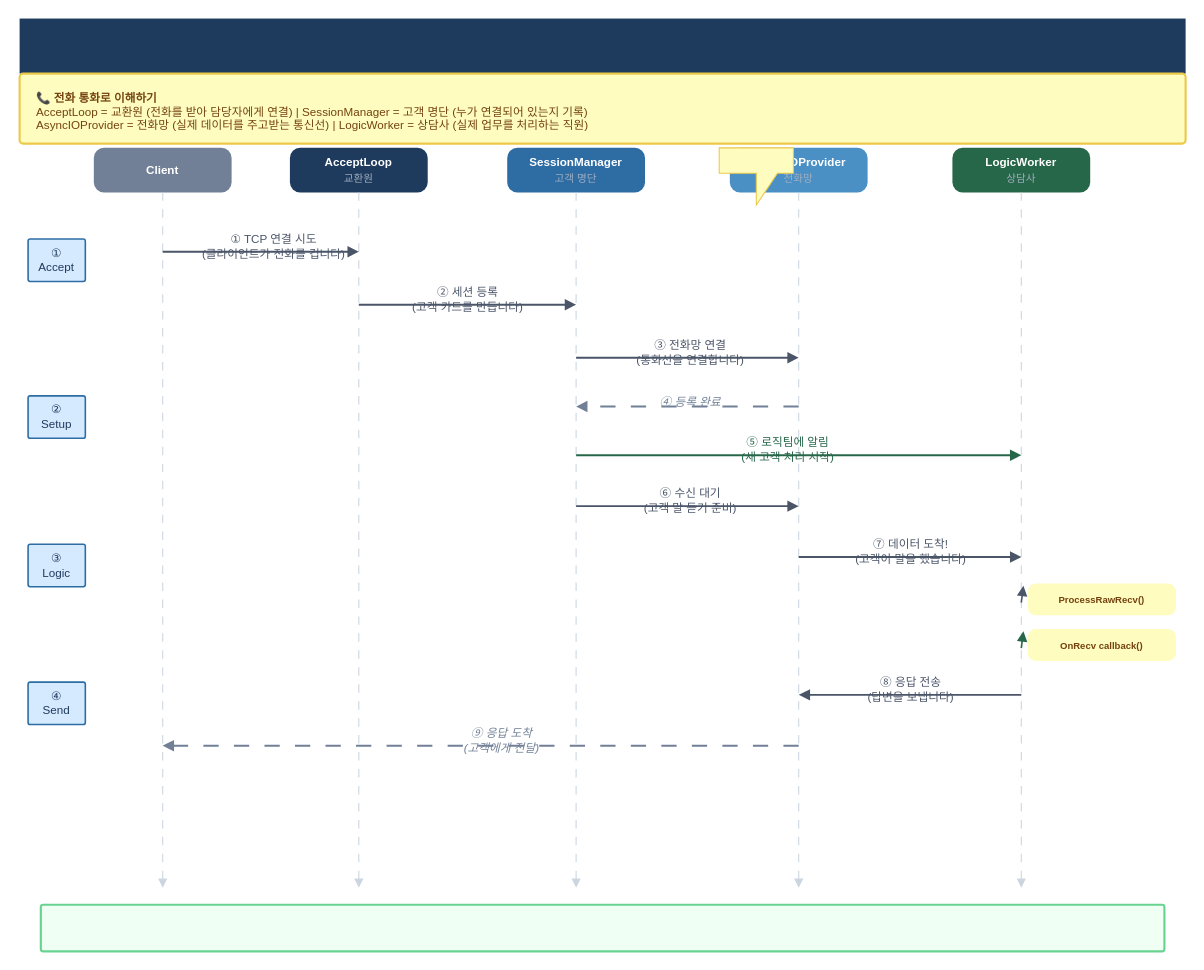
This 1204x970 diagram has some shape labels left out. Here are the shapes that lost their labels. From the top down, the centre of each, then its label:
At point (602, 45): "Connection Establishment & Packet Flow".
At point (755, 176): "왜 분리? I/O(전화망)와 로직(상담사)을 분리 → 네트워크가 느려도 로직 처리가 멈추지 않음".
At point (602, 927): "✅ 핵심 포인트: I/O(전화망)와 로직(상담사)은 분리되어 있어 — 네트워크가 느려도 로직 처리가 멈추지 않습니다.".
